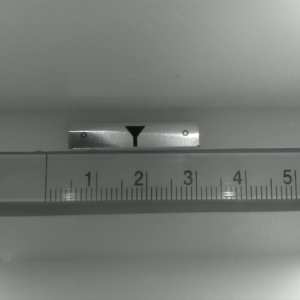1: (84, 172, 90, 186)
2: (133, 170, 143, 186)
3: (182, 170, 192, 185)
4: (231, 170, 241, 185)
5: (282, 169, 292, 185)
finger: (123, 126, 145, 147)
